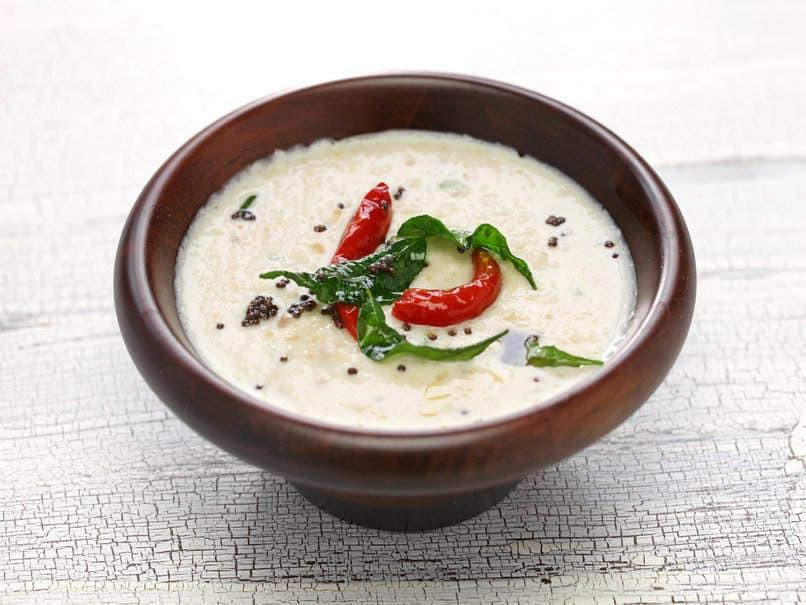CoconutChutney: (177, 129, 634, 426)
